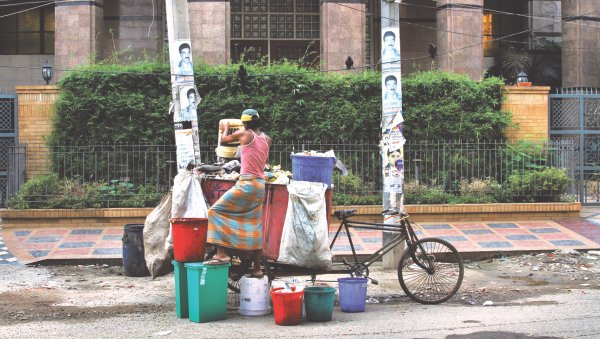garbagevan: (178, 159, 464, 307)
